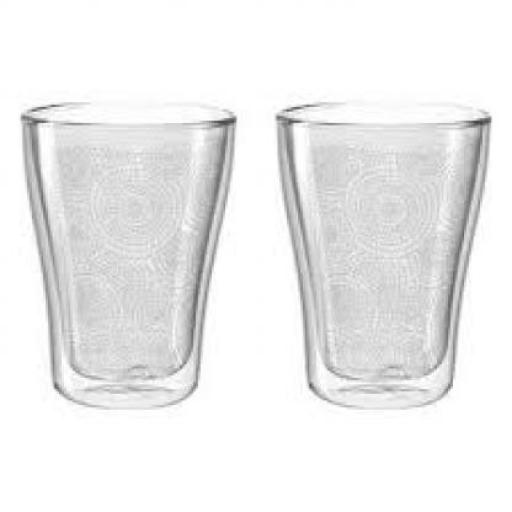glass: (18, 98, 232, 408), (273, 100, 489, 405)
